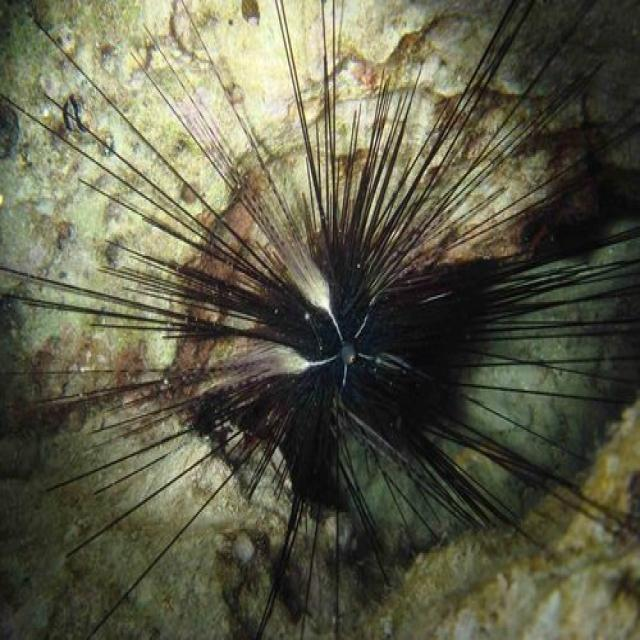Urchin: (19, 3, 630, 623)
